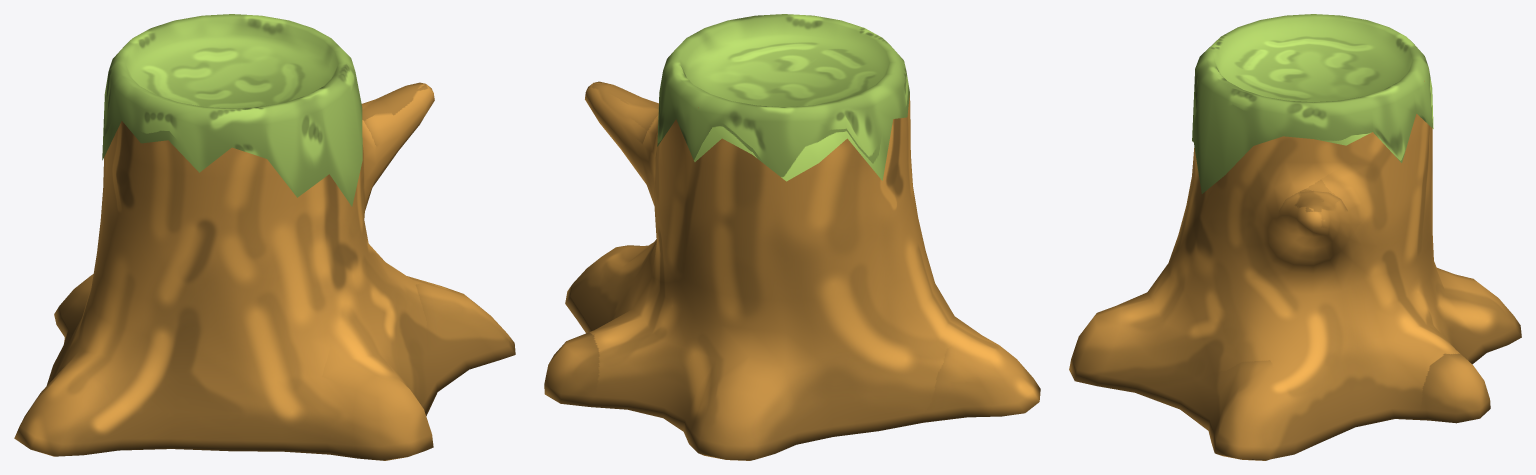
Rendered from Stump_ForestProp_001.fbx.
The picture shows the model from 3 angles, left to right: view 1: azimuth 30°, elevation 25°; view 2: azimuth 150°, elevation 25°; view 3: azimuth 270°, elevation 25°; orthographic projection. The views are drawn at different scales.
Parts seen in each view (by area): view 1: TreeStumpsRoots_ForestProp_001, Moss_ForestProp_001; view 2: TreeStumpsRoots_ForestProp_001, Moss_ForestProp_001; view 3: TreeStumpsRoots_ForestProp_001, Moss_ForestProp_001.
Part boxes in pixels (<box>): TreeStumpsRoots_ForestProp_001: <box>14,82,515,460</box>; Moss_ForestProp_001: <box>102,14,362,206</box>; TreeStumpsRoots_ForestProp_001: <box>544,81,1040,460</box>; Moss_ForestProp_001: <box>657,14,909,181</box>; TreeStumpsRoots_ForestProp_001: <box>1069,81,1521,460</box>; Moss_ForestProp_001: <box>1192,14,1433,193</box>.
Bounding box in the file's own units: 411 × 259 × 363.
